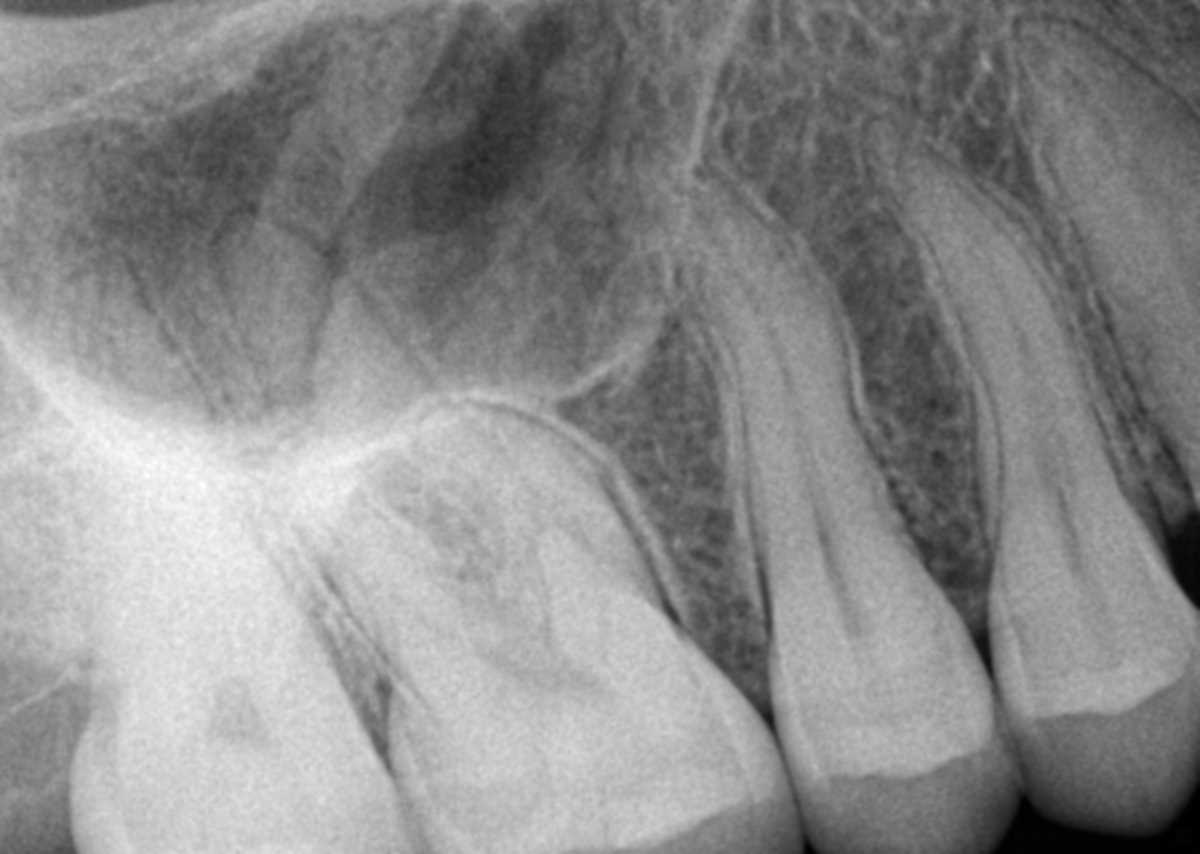Distal Canal: (346, 556, 471, 652)
Distal Root: (275, 441, 485, 697)
Main Canal: (635, 157, 859, 606), (1017, 37, 1192, 291), (951, 214, 1080, 525)
Main Root: (629, 135, 922, 635), (53, 251, 331, 692), (858, 117, 1143, 540), (1005, 6, 1200, 492)
Mesial Canal: (512, 512, 556, 605)
Mesial Root: (406, 407, 664, 616)
Palatal Root: (209, 212, 607, 677)
